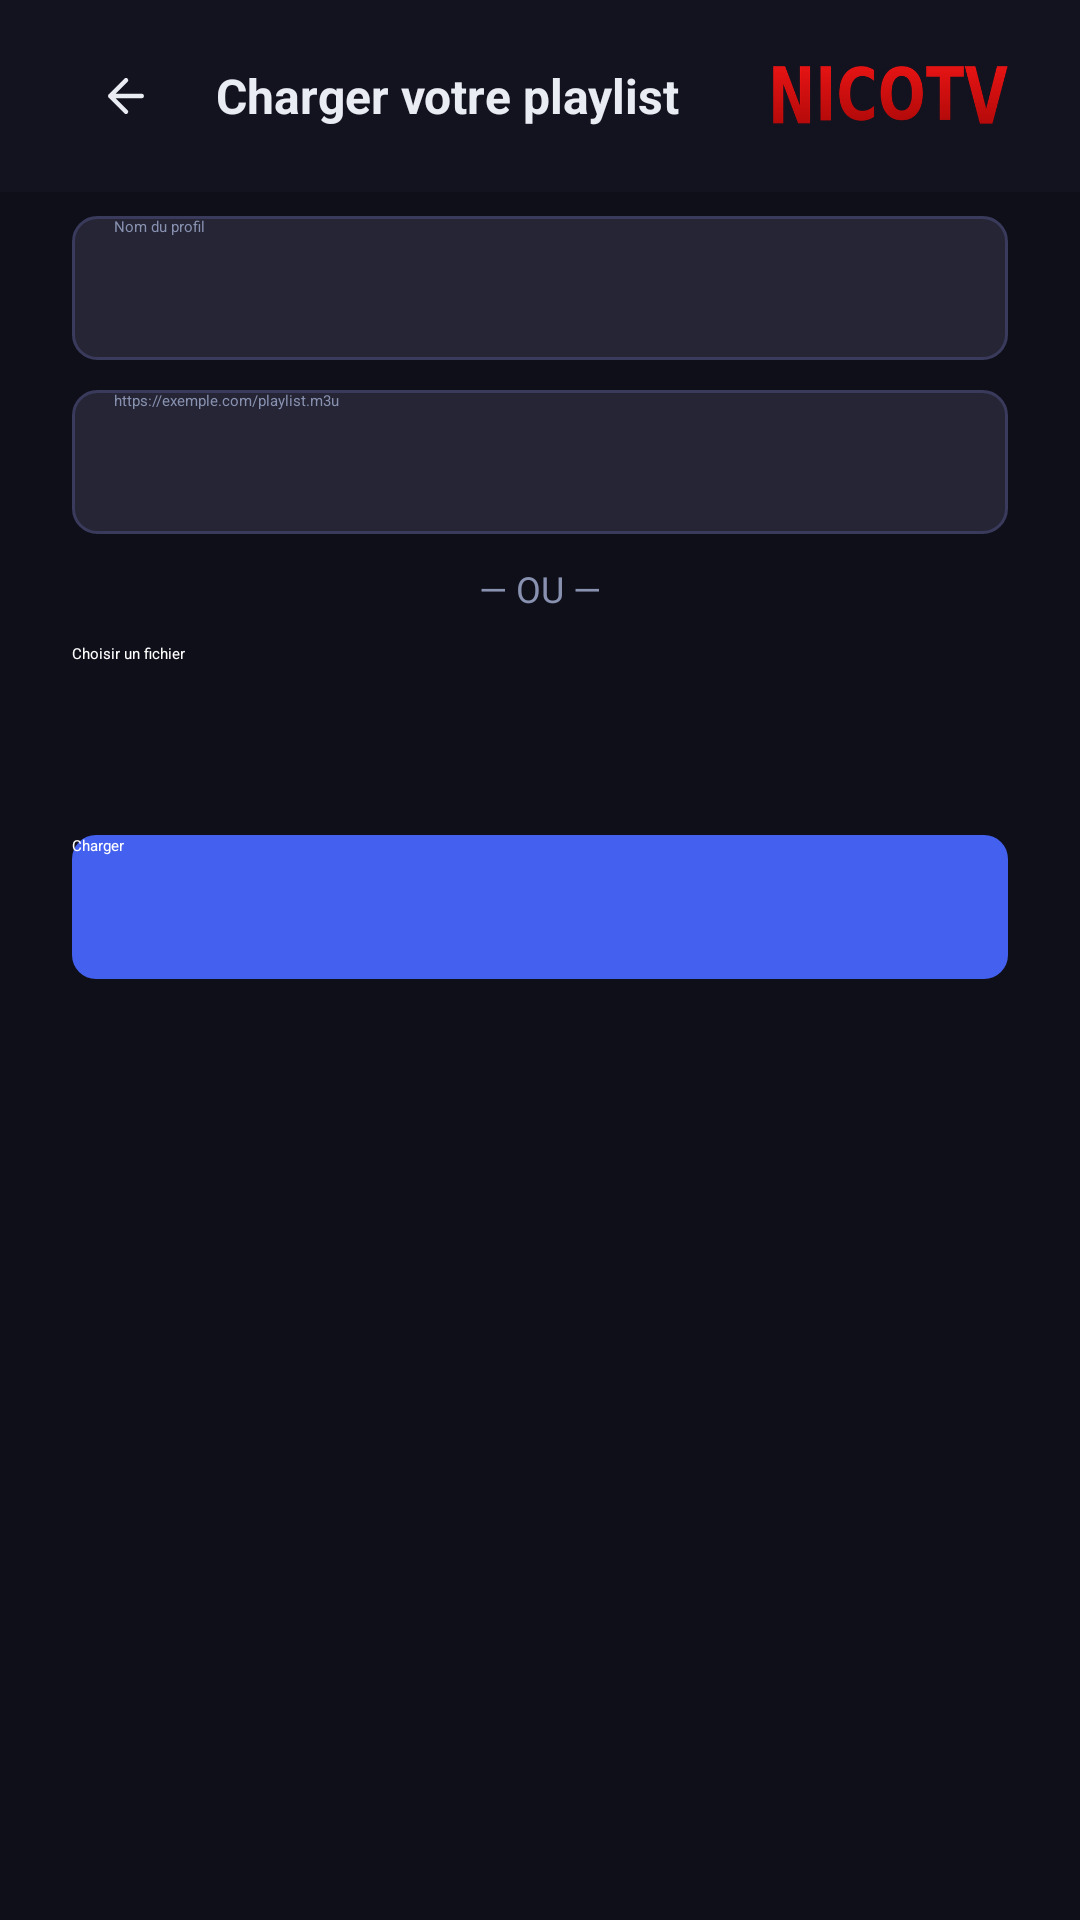

Icons on this 1080×1920 Android screen, each with the point to tap as (x=x, y=y):
pwa back: (x=126, y=96)
